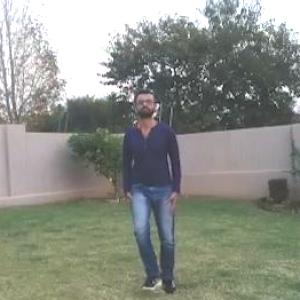follow: (124, 84, 182, 284)
